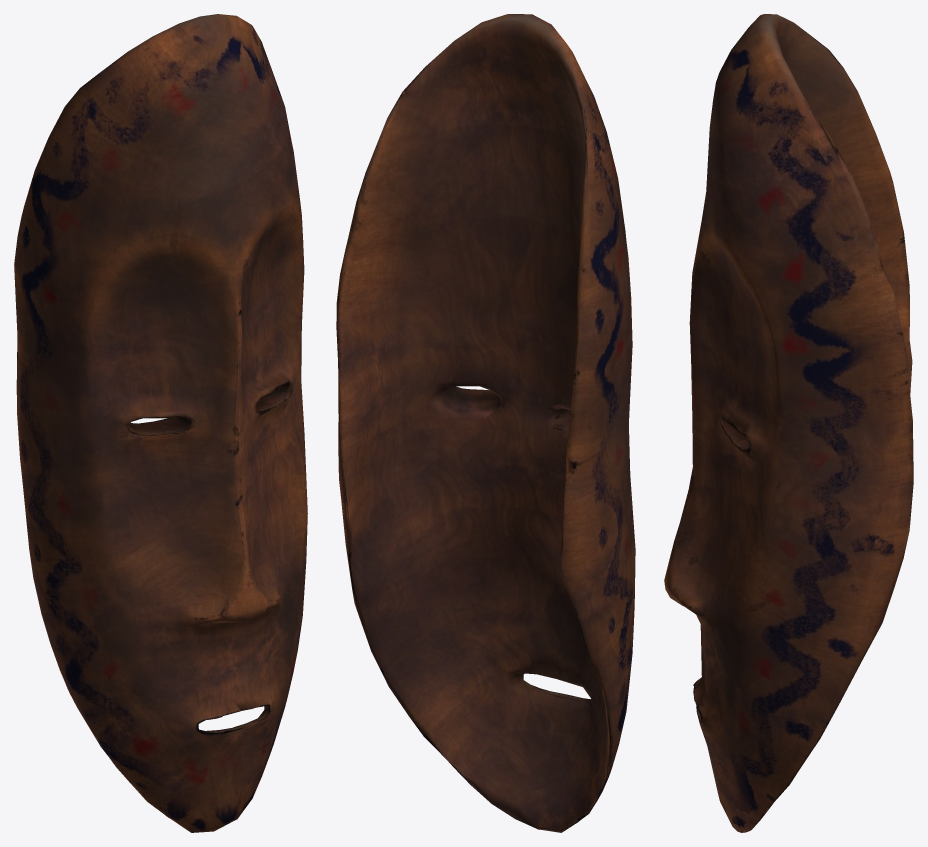
Rendered from Mask.fbx.
The picture shows the model from 3 angles, left to right: view 1: azimuth 30°, elevation 25°; view 2: azimuth 150°, elevation 25°; view 3: azimuth 270°, elevation 25°; orthographic projection. The views are drawn at different scales.
Parts seen in each view (by area): view 1: Prop; view 2: Prop; view 3: Prop.
Part boxes in pixels (x1=…): Prop: x1=14, y1=14, x2=307, y2=832; Prop: x1=336, y1=14, x2=635, y2=832; Prop: x1=664, y1=14, x2=913, y2=832.
Bounding box in the file's own units: 0.6621 × 2 × 0.5605.
Materials: 1 (1 with a texture image).
